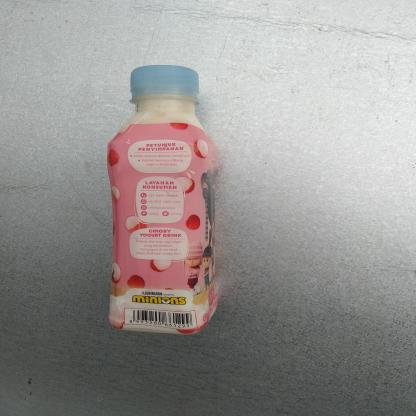bottle: (102, 60, 218, 336)
